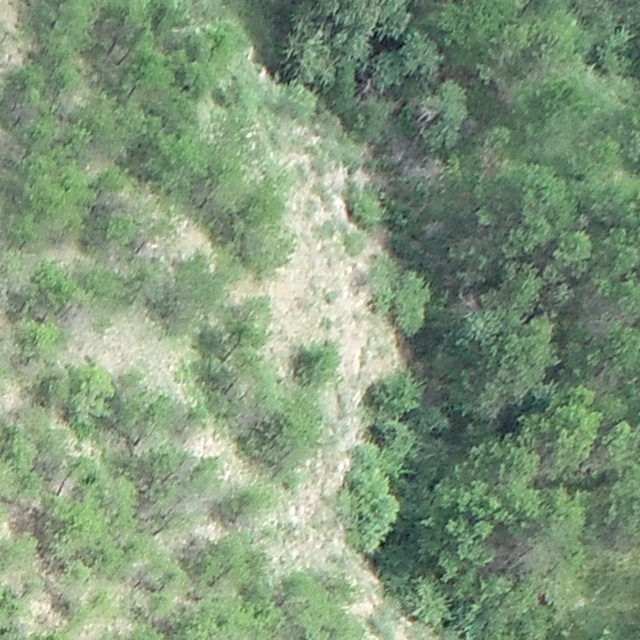unhealthy: (579, 287, 640, 336), (490, 529, 542, 572), (402, 156, 448, 179), (5, 96, 40, 121), (446, 290, 482, 313), (91, 193, 130, 212)
